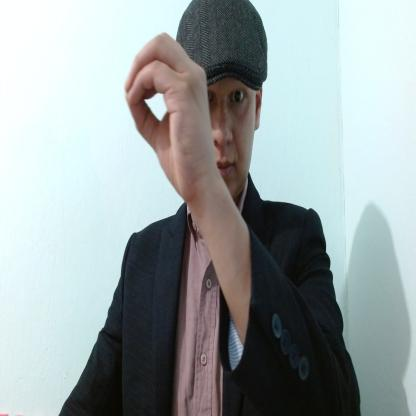O: (124, 28, 212, 198)
